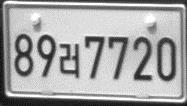0: (154, 35, 177, 81)
2: (131, 35, 153, 81)
7: (83, 34, 105, 79), (106, 36, 128, 80)
8: (14, 33, 33, 78)
9: (36, 34, 57, 78)
러: (58, 42, 81, 78)
